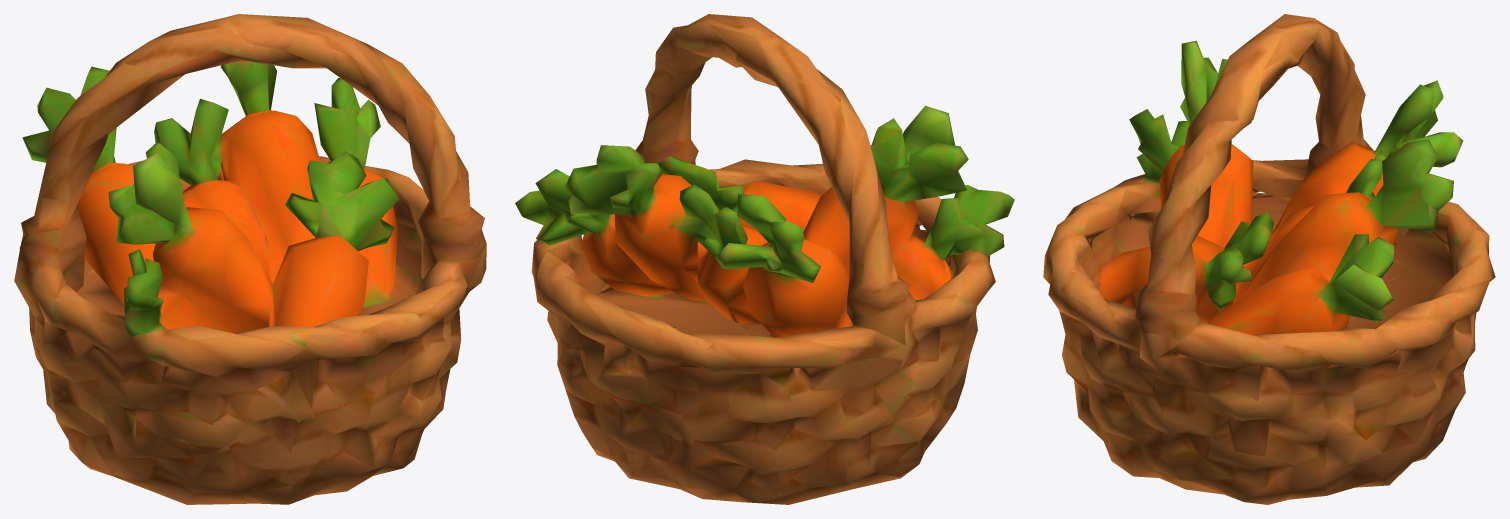
3 renders of one model, left to right at view 1: azimuth 30°, elevation 25°; view 2: azimuth 150°, elevation 25°; view 3: azimuth 270°, elevation 25°, orthographic. The views are drawn at different scales.
Parts seen in each view (by area): view 1: carrot-basket; view 2: carrot-basket; view 3: carrot-basket.
Boxes of the visible parts, x1=… form: carrot-basket: x1=14, y1=14, x2=486, y2=504; carrot-basket: x1=515, y1=14, x2=1014, y2=504; carrot-basket: x1=1043, y1=14, x2=1495, y2=504.
Size of the model in its own units: 0.5524 by 0.5434 by 0.5483.
Materials: 1 (1 with a texture image).
